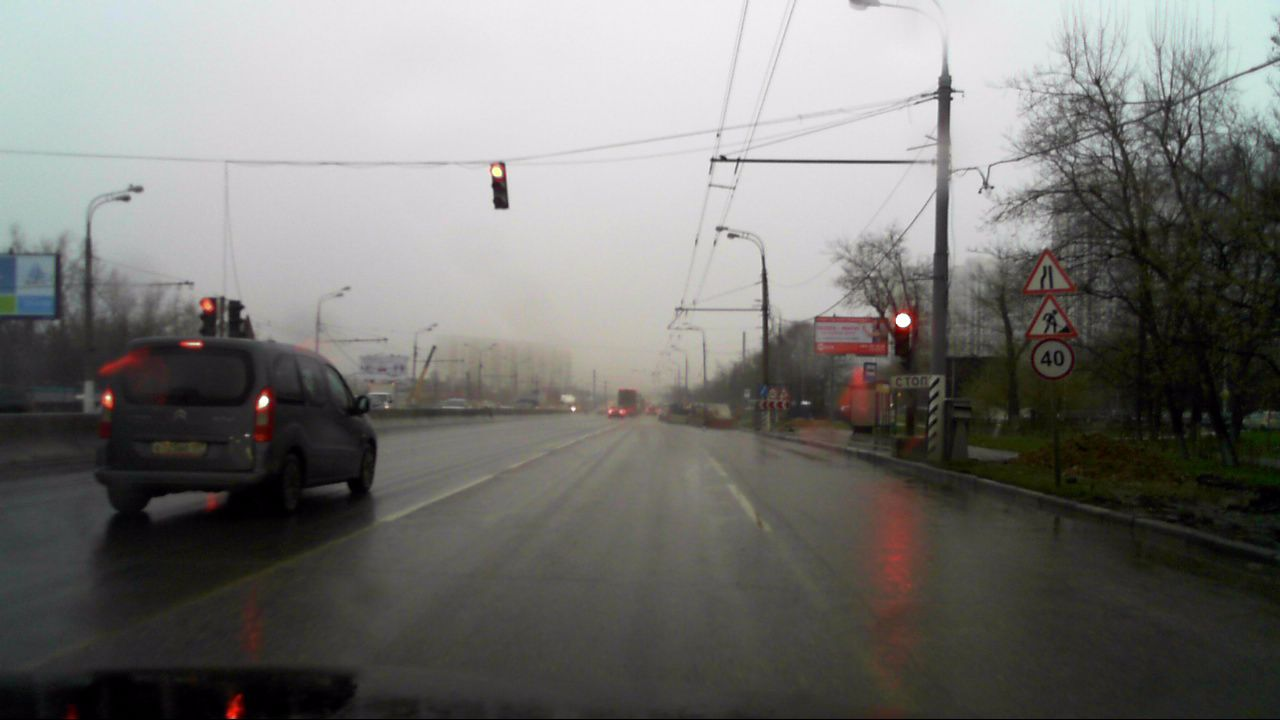speed_warning_40: (1031, 340, 1072, 378)
